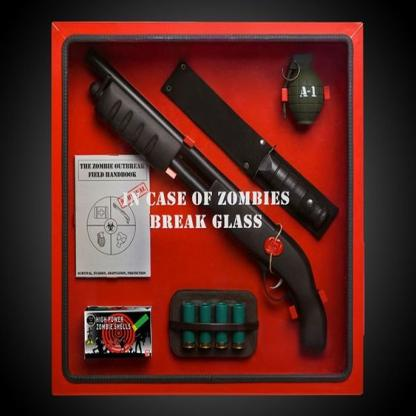Grenade: (279, 57, 330, 132)
Gun: (78, 44, 330, 358)
Knife: (162, 58, 339, 243)
